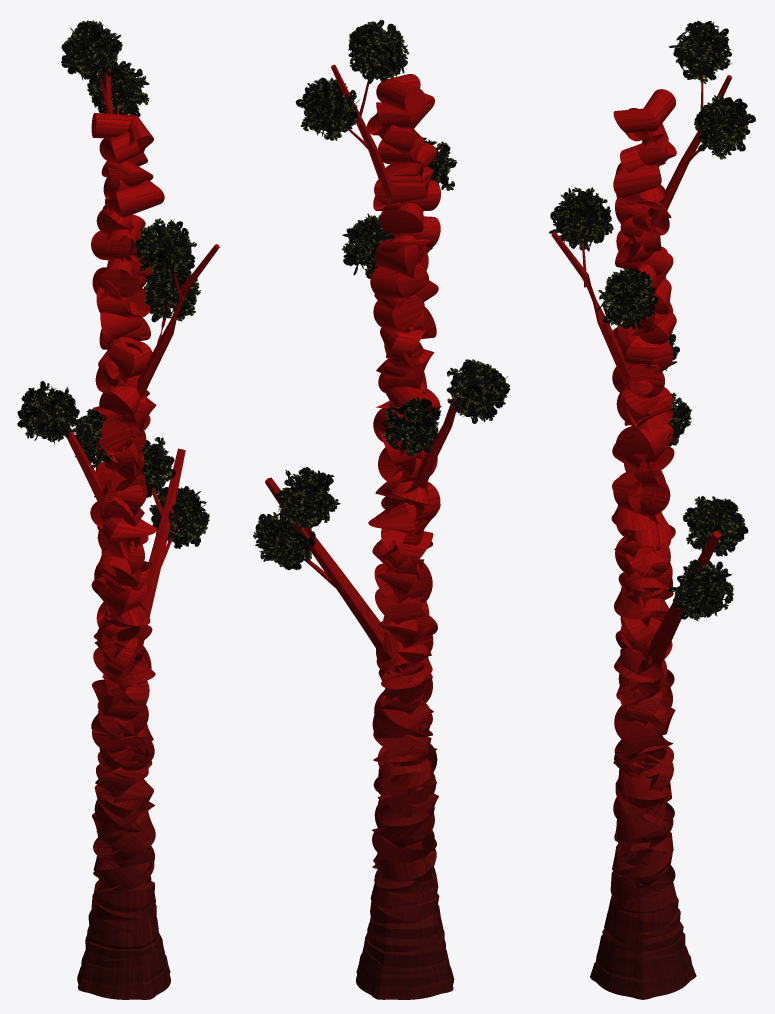
File: deadwood_snag_v02.glb
3 renders of one model, left to right at view 1: azimuth 30°, elevation 25°; view 2: azimuth 150°, elevation 25°; view 3: azimuth 270°, elevation 25°, orthographic. The views are drawn at different scales.
Parts seen in each view (by area): view 1: deadwood_snag_v02; view 2: deadwood_snag_v02; view 3: deadwood_snag_v02.
Part boxes in pixels (box(x1,y1,x2,y2)): deadwood_snag_v02: box(17, 20, 219, 999); deadwood_snag_v02: box(253, 19, 510, 999); deadwood_snag_v02: box(549, 21, 755, 999).
Bounding box in the file's own units: 4.83 × 19.97 × 4.07.
Materials: 2 (2 with a texture image).
